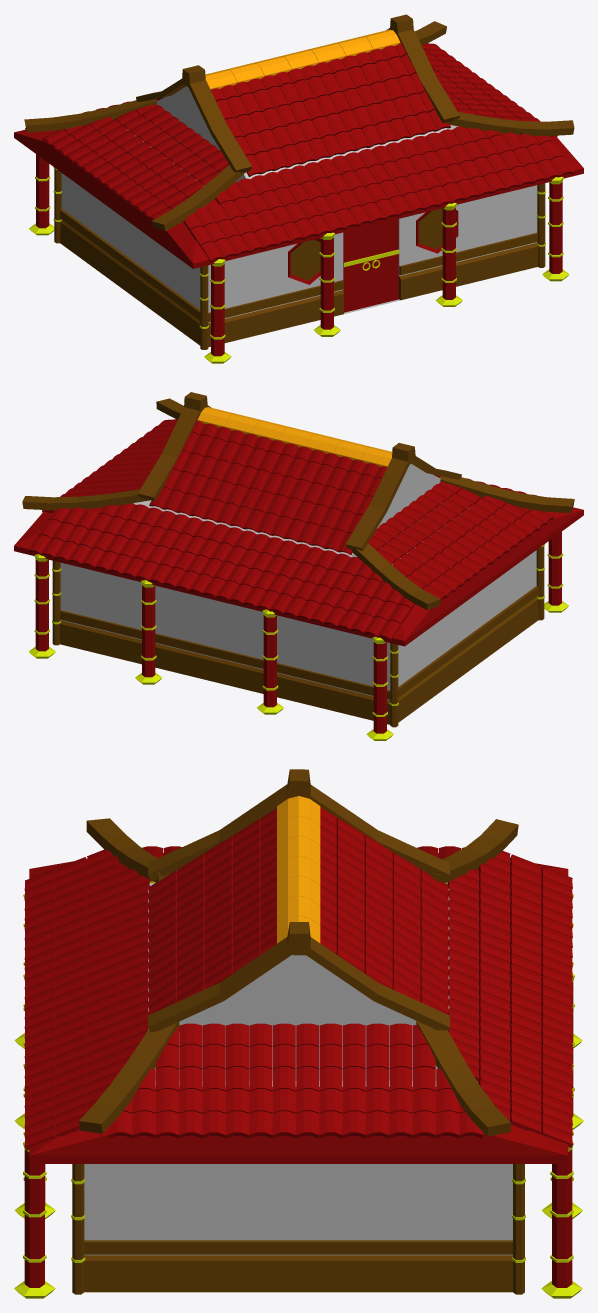
Rendered from Casa02_3.fbx.
3 views of the same model, one above another, from view 1: azimuth 30°, elevation 25°; view 2: azimuth 150°, elevation 25°; view 3: azimuth 270°, elevation 25° (orthographic). The views are drawn at different scales.
Visible parts, largest first — view 1: Telhado, House; view 2: Telhado, House; view 3: Telhado, House.
Boxes of the visible parts, x1=… form: Telhado: x1=24, y1=14, x2=574, y2=262; House: x1=14, y1=43, x2=583, y2=363; Telhado: x1=22, y1=392, x2=574, y2=640; House: x1=14, y1=419, x2=583, y2=740; Telhado: x1=24, y1=769, x2=572, y2=1150; House: x1=14, y1=853, x2=583, y2=1298.
Size of the model in its own units: 10.14 by 4.84 by 7.9.
